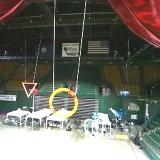Orange_Triangle_Gshape: (20, 81, 37, 96)
Yellow_Circle_GShape: (48, 86, 77, 116)
